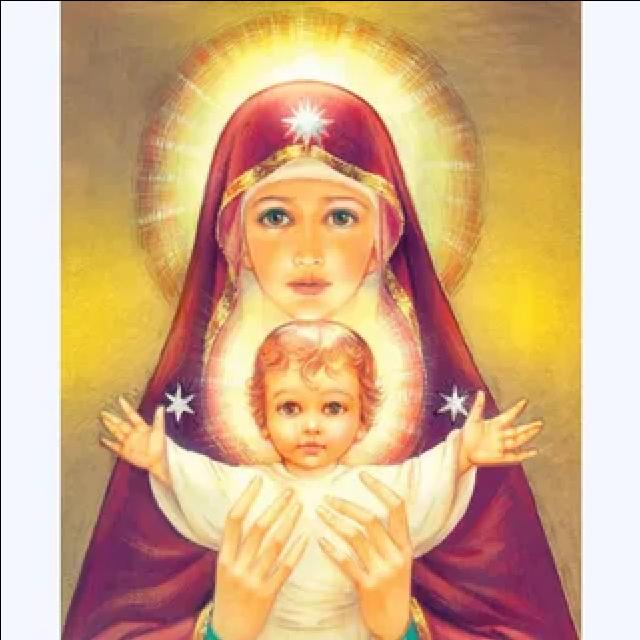mother of god: (64, 70, 574, 640)
